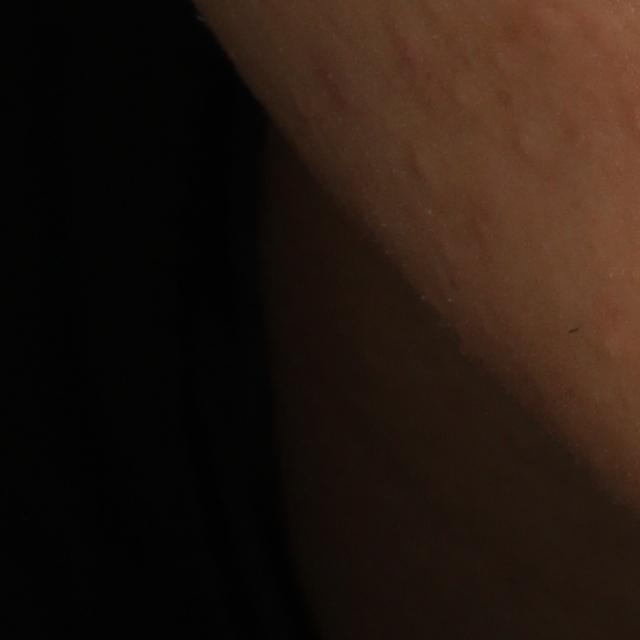comedo: (444, 73, 475, 113), (509, 131, 542, 164), (588, 333, 622, 364), (410, 150, 435, 187)
papule: (398, 39, 425, 73)
